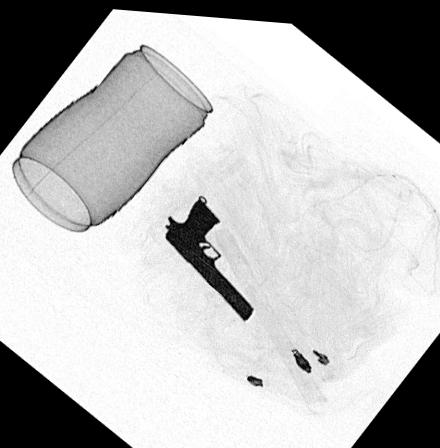Gun: (158, 193, 253, 316)
